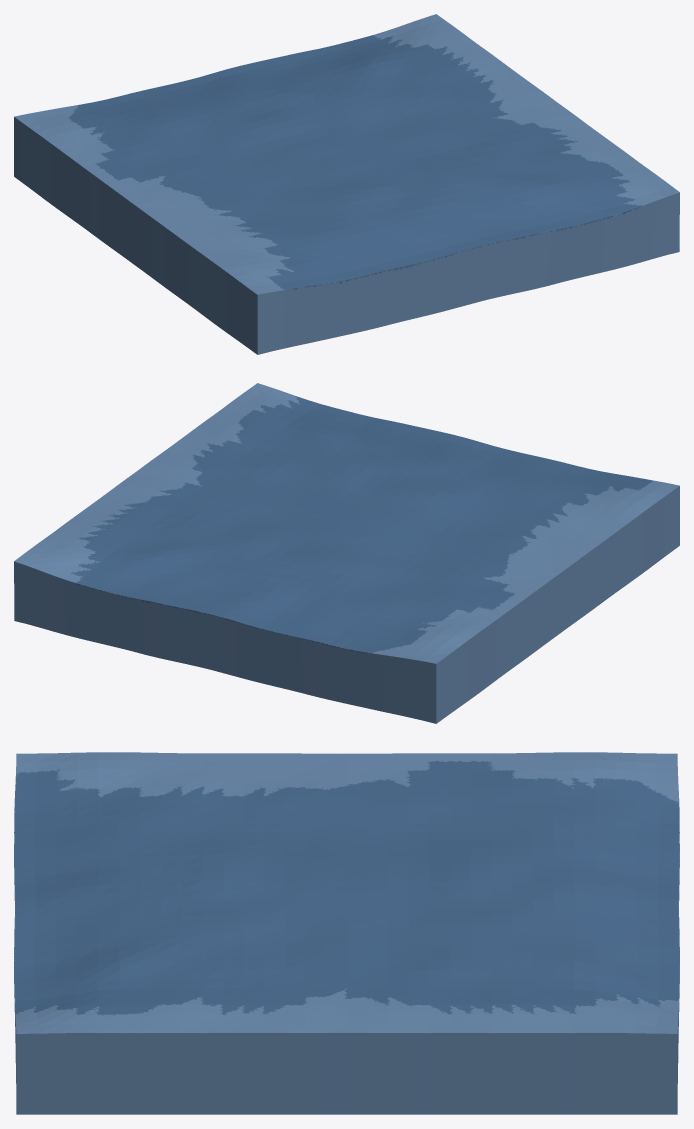
File: Ground_road.fbx
3 renders of one model, top to bottom at view 1: azimuth 30°, elevation 25°; view 2: azimuth 150°, elevation 25°; view 3: azimuth 270°, elevation 25°, orthographic. The views are drawn at different scales.
Visible parts, largest first — view 1: Ground_road.001; view 2: Ground_road.001; view 3: Ground_road.001.
Part boxes in pixels (x1=…): Ground_road.001: x1=14, y1=14, x2=679, y2=354; Ground_road.001: x1=14, y1=383, x2=679, y2=723; Ground_road.001: x1=14, y1=752, x2=679, y2=1114.
Size of the model in its own units: 10.02 by 1.49 by 10.07.
Materials: 1 (1 with a texture image).
